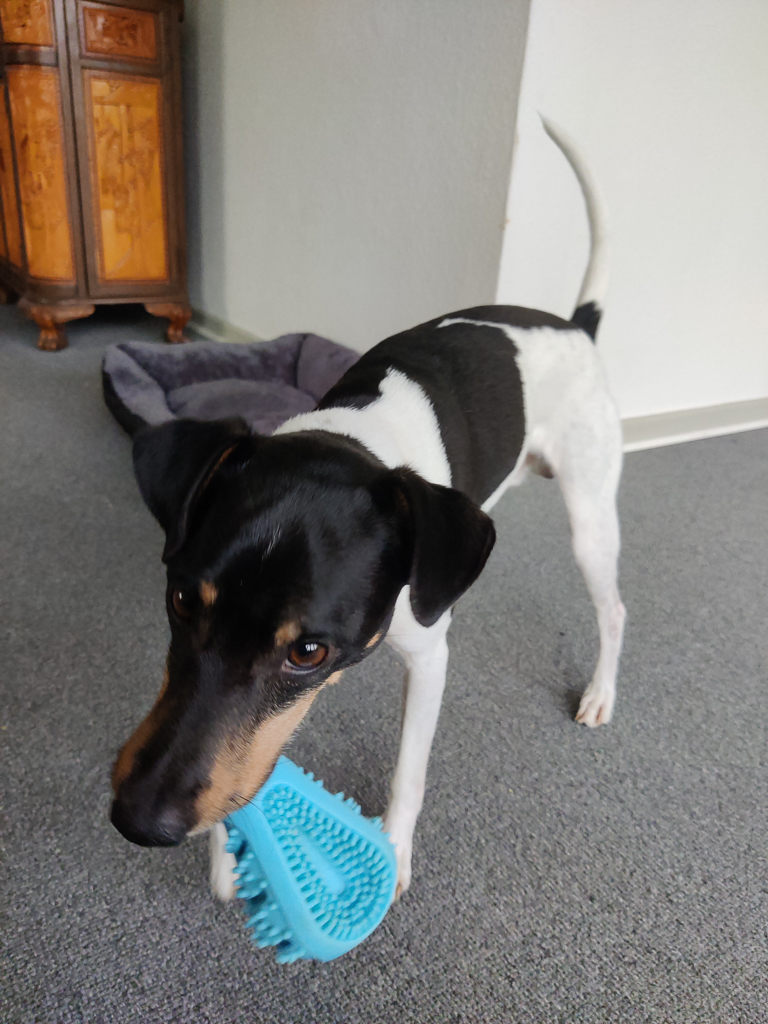Dog: (75, 98, 649, 942)
